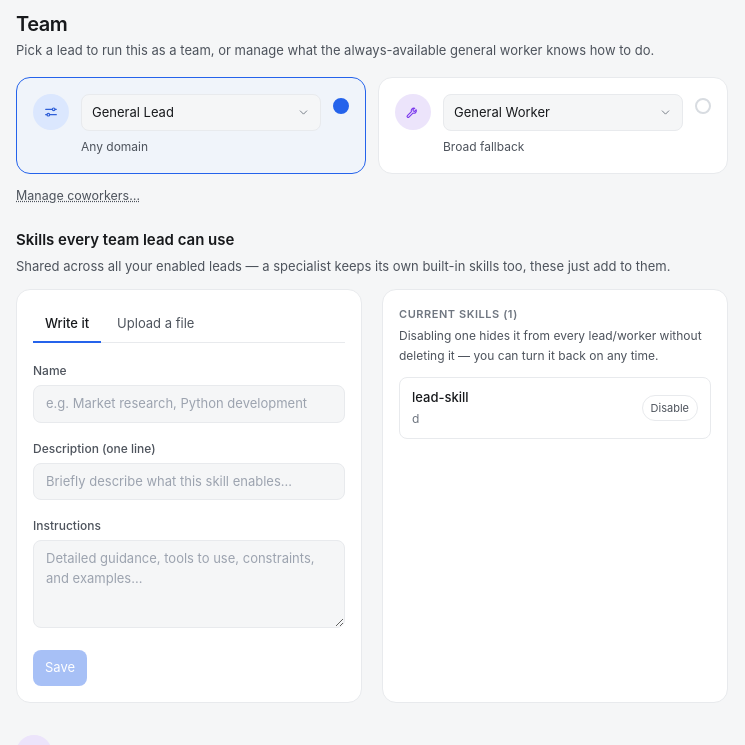
Scenario: TeamPage › disabling a skill toggles it (PATCH enabled: false) instead of deleting it
The image size is (745, 745).
Check: the text "lead-skill" is shown, box [412,389,469,405]
Click the button "Disable" at (670, 408), box [642,395,698,421]
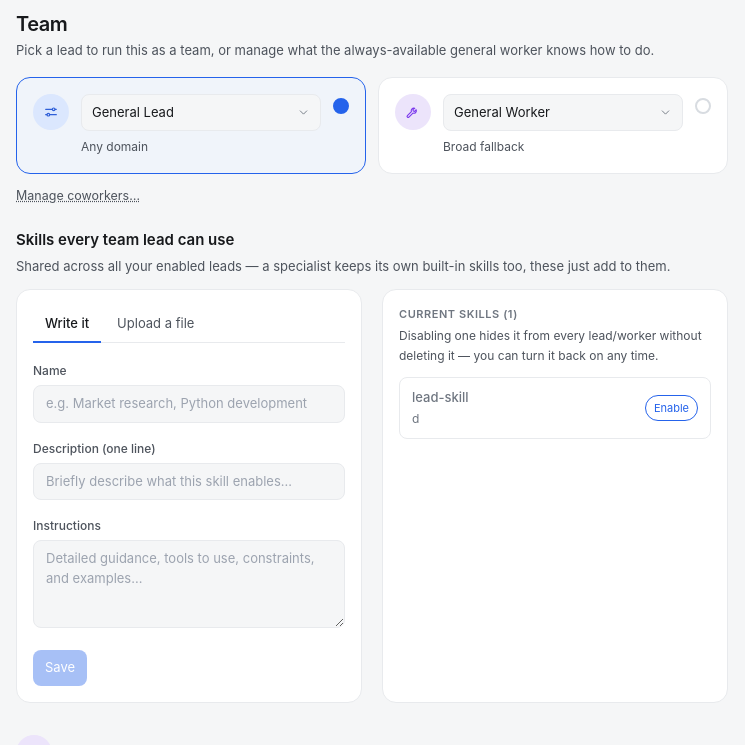
Check: the button "Enable" is shown, box [645,395,698,421]
